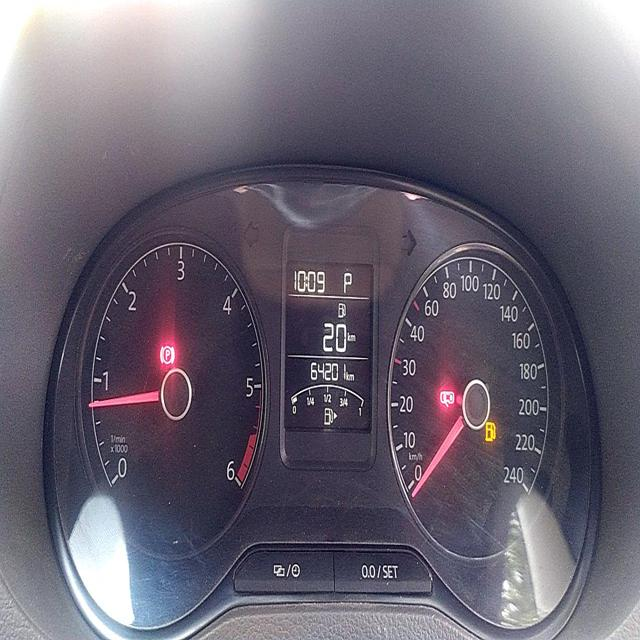odometer: (304, 356, 347, 386)
